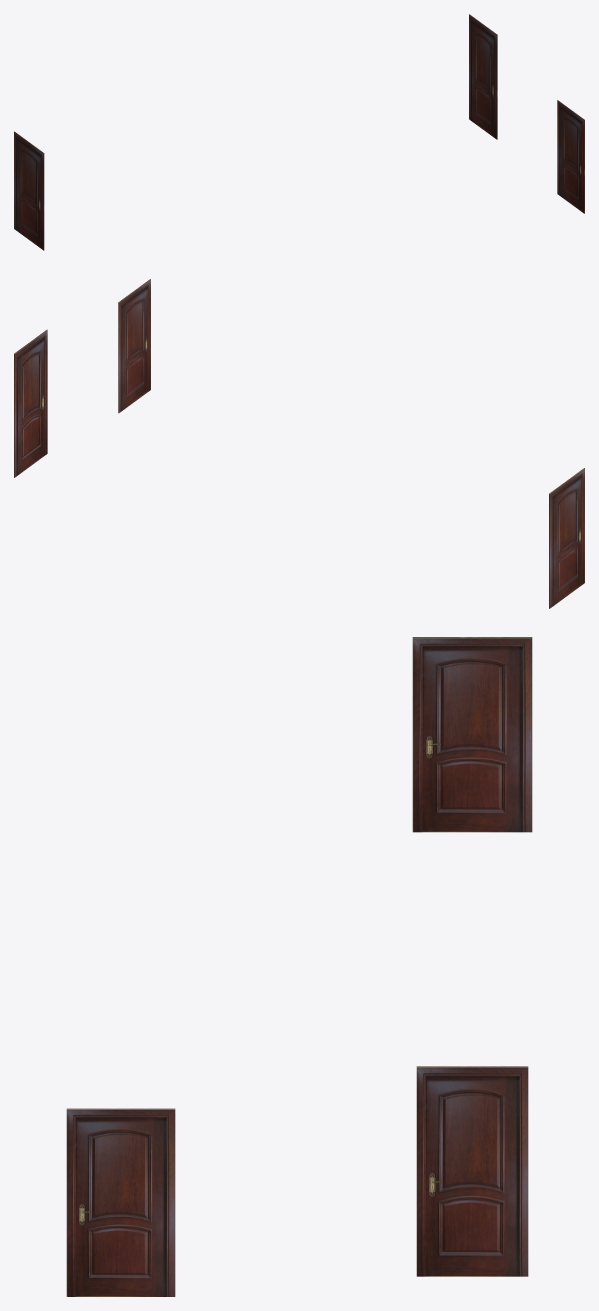
The model's file is puertas.obj.
3 renders of one model, top to bottom at view 1: azimuth 30°, elevation 25°; view 2: azimuth 150°, elevation 25°; view 3: azimuth 270°, elevation 25°, orthographic. The views are drawn at different scales.
Parts seen in each view (by area): view 1: pCube19; view 2: pCube19; view 3: pCube19.
Part boxes in pixels (x1,y1,x2,y2): pCube19: (14,14,584,250); pCube19: (14,279,584,608); pCube19: (66,637,532,1296).
Size of the model in its own units: 40.82 by 9.87 by 18.09.
1 material, 1 textured.
